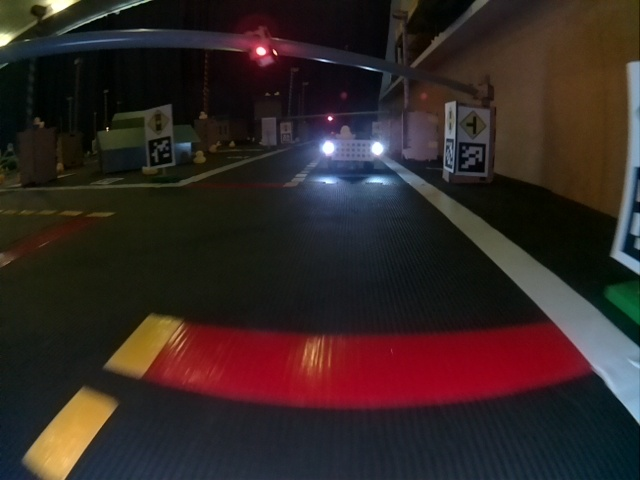Duckie: (338, 126, 352, 136), (194, 151, 204, 160)
Duckiebot: (321, 137, 384, 171)
Intersection sign: (460, 109, 485, 141)
QR code: (457, 141, 483, 174), (149, 139, 174, 164), (444, 138, 454, 172)
Signal sign: (145, 110, 169, 135)
Traffic light: (326, 114, 336, 122)
